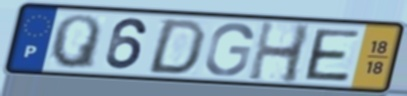6: (103, 16, 149, 72)
D: (143, 18, 209, 77)
E: (303, 27, 363, 84)
G: (202, 21, 256, 78)
H: (245, 19, 315, 86)
Q: (47, 12, 104, 72)
